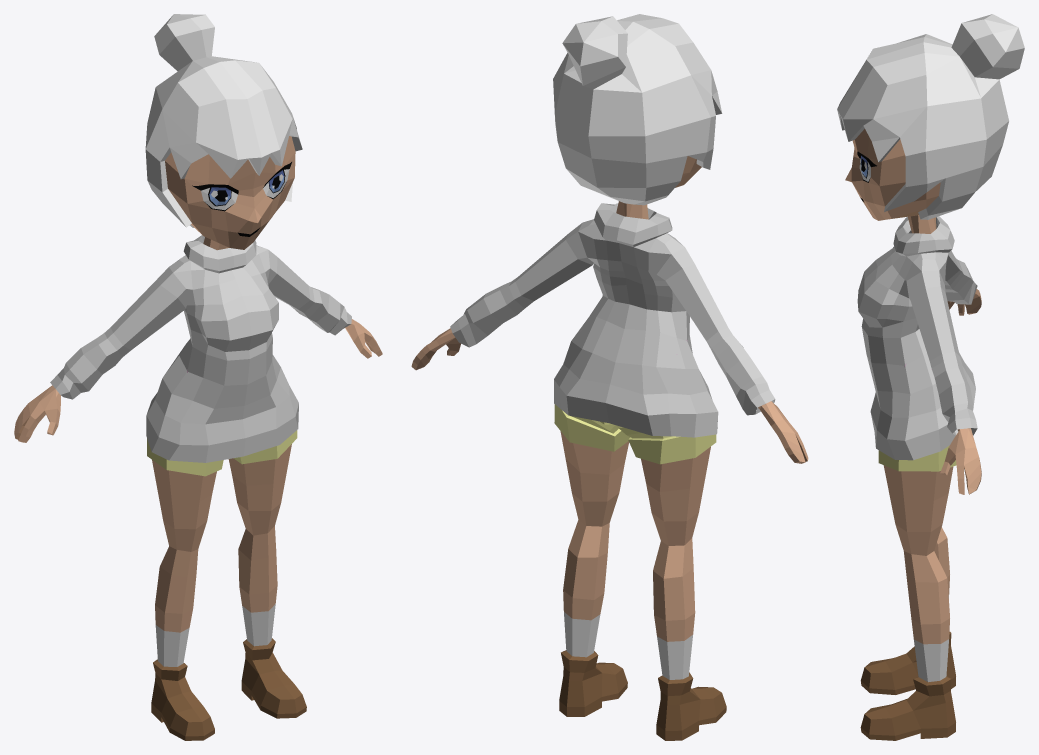
Rendered from anime girl.fbx.
The picture shows the model from 3 angles, left to right: view 1: azimuth 30°, elevation 25°; view 2: azimuth 150°, elevation 25°; view 3: azimuth 270°, elevation 25°; orthographic projection. The views are drawn at different scales.
Visible parts, largest first — view 1: Cylinder, Cylinder.001; view 2: Cylinder, Cylinder.001; view 3: Cylinder, Cylinder.001.
Boxes of the visible parts, bbox=[...] form: Cylinder: bbox=[14, 14, 382, 740]; Cylinder.001: bbox=[50, 235, 351, 462]; Cylinder: bbox=[411, 14, 808, 740]; Cylinder.001: bbox=[450, 203, 775, 437]; Cylinder: bbox=[837, 14, 1024, 740]; Cylinder.001: bbox=[857, 216, 977, 460].
Size of the model in its own units: 138 by 242 by 59.7.
